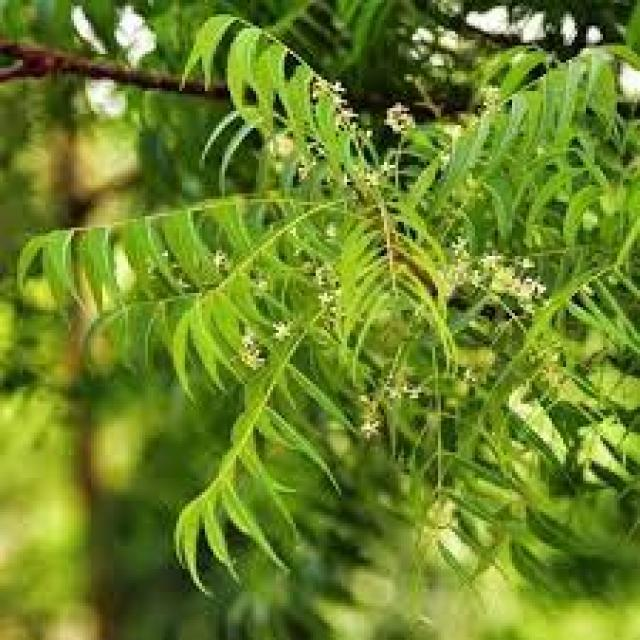Medicinal-Neem: (21, 13, 627, 597)
